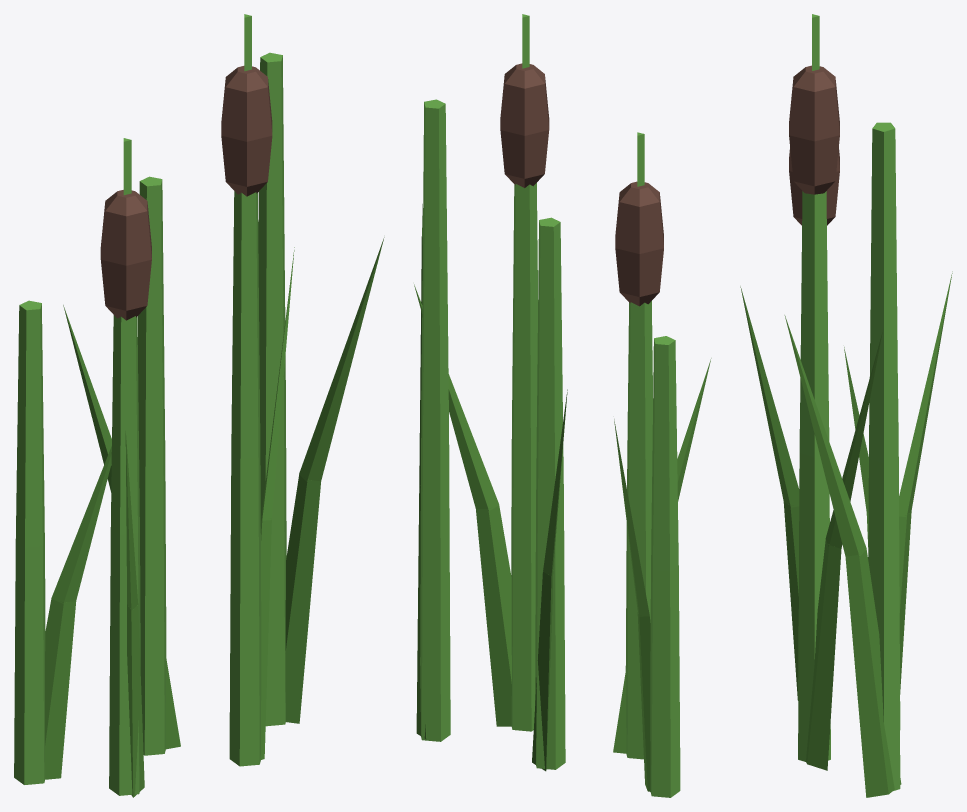
The model's file is reeds.glb.
3 renders of one model, left to right at view 1: azimuth 30°, elevation 25°; view 2: azimuth 150°, elevation 25°; view 3: azimuth 270°, elevation 25°, orthographic. The views are drawn at different scales.
Parts seen in each view (by area): view 1: reeds-m; view 2: reeds-m; view 3: reeds-m.
Boxes of the visible parts, <box> form: reeds-m: <box>14,14,384,797</box>; reeds-m: <box>414,14,711,797</box>; reeds-m: <box>740,14,952,797</box>.
Size of the model in its own units: 1.05 by 2.37 by 0.6141.
